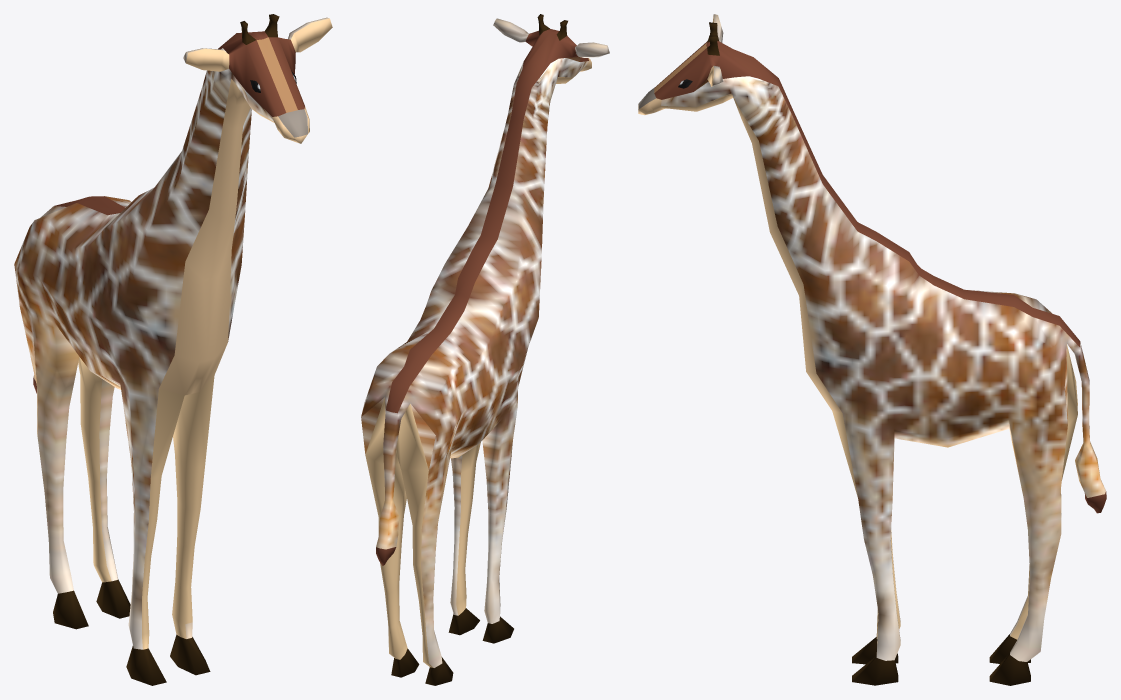
3 views of the same model, side by side, from view 1: azimuth 30°, elevation 25°; view 2: azimuth 150°, elevation 25°; view 3: azimuth 270°, elevation 25° (orthographic). The views are drawn at different scales.
Visible parts, largest first — view 1: Girafe; view 2: Girafe; view 3: Girafe.
Part boxes in pixels (x1,y1,x2,y2): Girafe: [14, 14, 332, 685]; Girafe: [361, 14, 609, 685]; Girafe: [638, 14, 1106, 685].
Size of what is drawn, in the model's own units: 0.691 by 3.22 by 2.14.
1 material, 1 textured.
